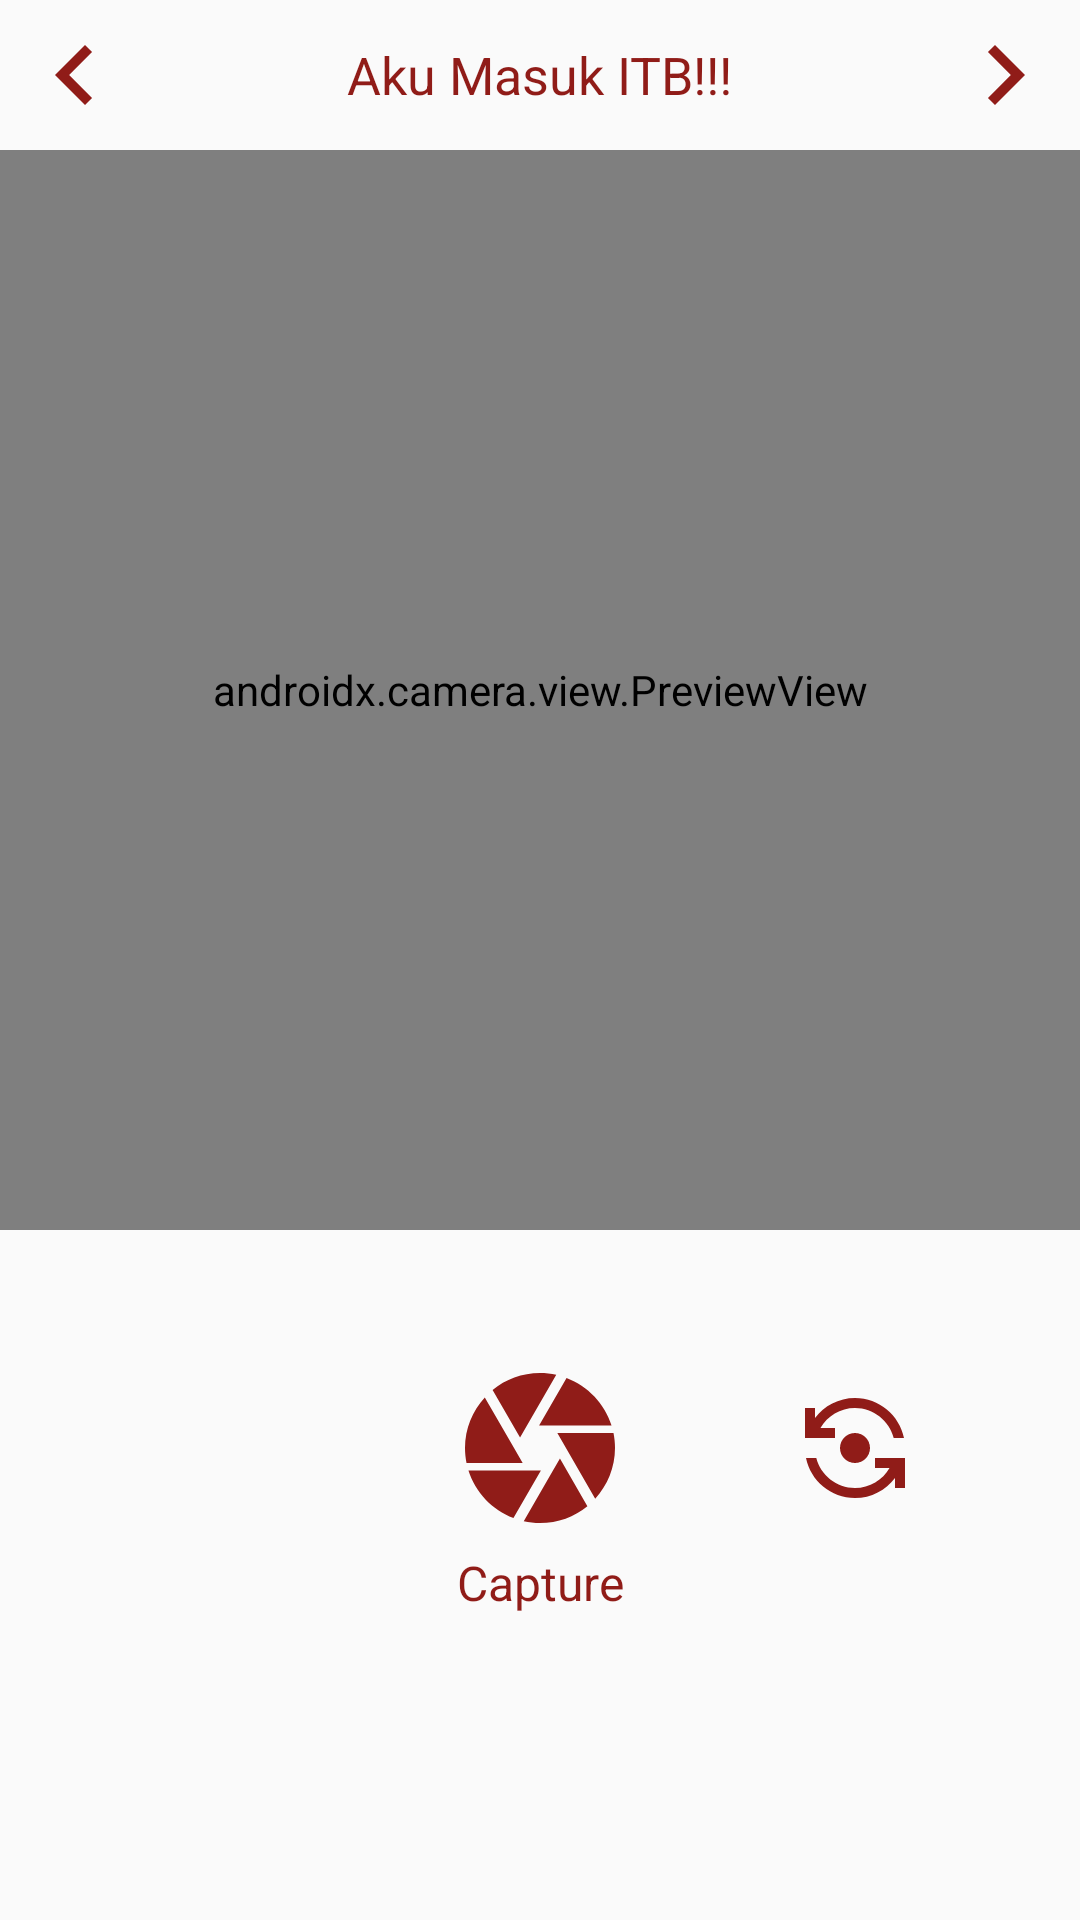

Named icons in this screenshot (1080×1920) and their bounding boxes, (x1, y1, x2, y2):
flip: (805, 1398, 905, 1498)
left: (55, 45, 92, 105)
right: (988, 45, 1025, 105)
